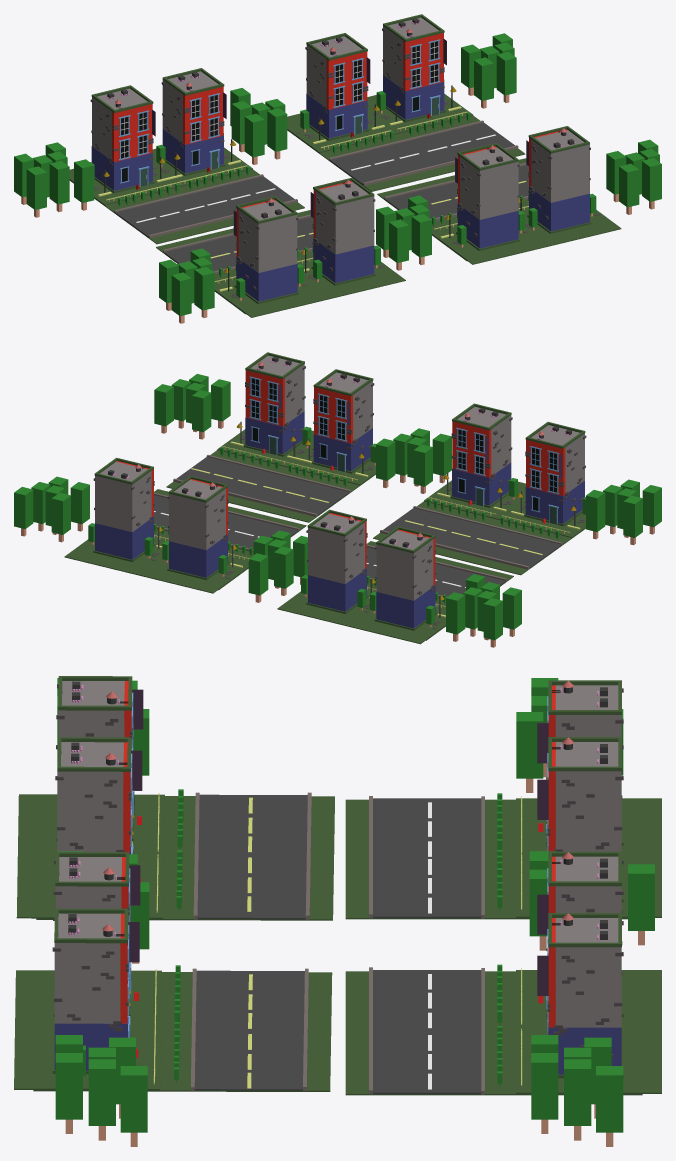
3 views of the same model, one above another, from view 1: azimuth 30°, elevation 25°; view 2: azimuth 150°, elevation 25°; view 3: azimuth 270°, elevation 25° (orthographic). The views are drawn at different scales.
Visible parts, largest first — view 1: Cube.494_527, Cube.660_690, Cube.161_201, Cube.328_364, Cube.081_104, Cube.003_4, Cube.123_153, Cube.035_54, Cube.662_692, Cube.664_694, Cube.498_531, Cube.332_368 (+58 smaller); view 2: Cube_0, Cube.078_100, Cube.020_50, Cube.120_149, Cube.663_693, Cube.331_367, Cube.164_204, Cube.497_530, Cube.004_5, Cube.080_103, Cube.037_55, Cube.124_154 (+54 smaller); view 3: Cube.497_530, Cube.123_153, Cube.003_4, Cube.164_204, Cube.161_201, Cube.081_104, Cube.663_693, Cube.494_527, Cube.120_149, Cube.020_50, Cube.331_367, Cube.035_54 (+43 smaller).
Boxes of the visible parts, x1,y1,x2,y2 form: Cube.494_527: [315, 182, 374, 254]; Cube.660_690: [238, 200, 297, 272]; Cube.161_201: [531, 130, 589, 202]; Cube.328_364: [460, 147, 518, 219]; Cube.081_104: [330, 141, 438, 184]; Cube.003_4: [115, 195, 223, 236]; Cube.123_153: [407, 122, 514, 164]; Cube.035_54: [186, 176, 294, 216]; Cube.662_692: [214, 277, 328, 317]; Cube.664_694: [236, 257, 297, 301]; Cube.498_531: [313, 238, 374, 283]; Cube.332_368: [457, 204, 518, 248]; Cube_0: [376, 530, 433, 600]; Cube.078_100: [169, 479, 225, 550]; Cube.020_50: [308, 514, 364, 583]; Cube.120_149: [95, 461, 151, 532]; Cube.663_693: [456, 526, 561, 568]; Cube.331_367: [246, 473, 349, 515]; Cube.164_204: [176, 457, 279, 496]; Cube.497_530: [383, 508, 486, 548]; Cube.004_5: [376, 585, 435, 628]; Cube.080_103: [138, 554, 248, 593]; Cube.037_55: [308, 568, 366, 611]; Cube.124_154: [95, 516, 153, 559]; Cube.497_530: [197, 856, 306, 919]; Cube.123_153: [373, 1031, 481, 1093]; Cube.003_4: [373, 798, 481, 860]; Cube.164_204: [194, 1027, 303, 1090]; Cube.161_201: [54, 913, 121, 1023]; Cube.081_104: [373, 970, 481, 1031]; Cube.663_693: [198, 794, 307, 856]; Cube.494_527: [57, 742, 123, 851]; Cube.120_149: [555, 918, 621, 1027]; Cube.020_50: [555, 742, 621, 851]; Cube.331_367: [195, 970, 304, 1032]; Cube.035_54: [373, 855, 481, 917].
Size of what is drawn, in the model's own units: 258 by 44.69 by 177.
